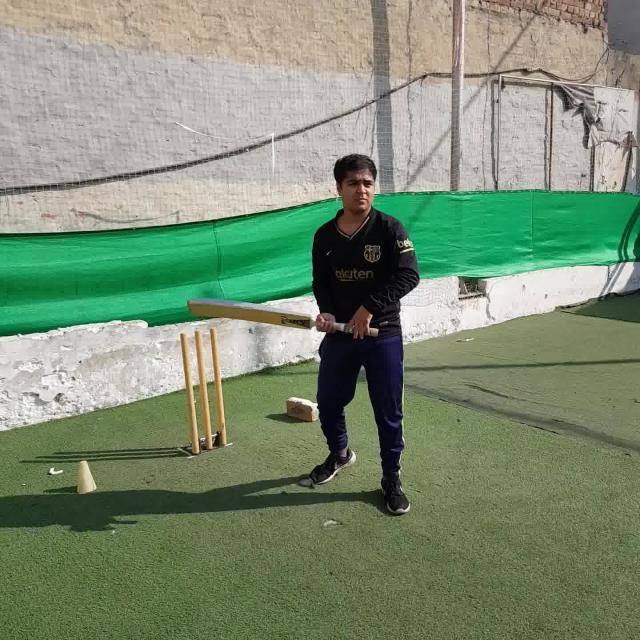bat: (186, 299, 377, 336)
